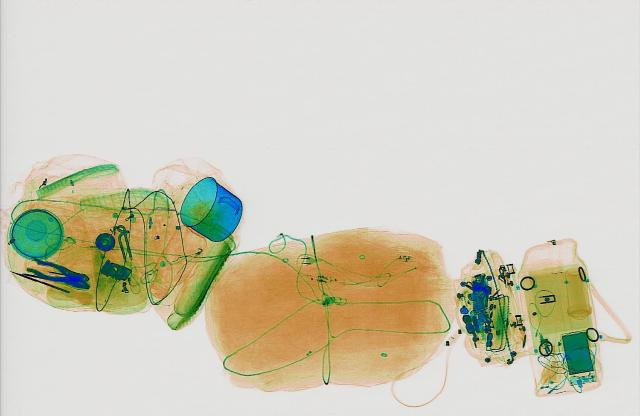Pliers: (21, 255, 99, 293)
